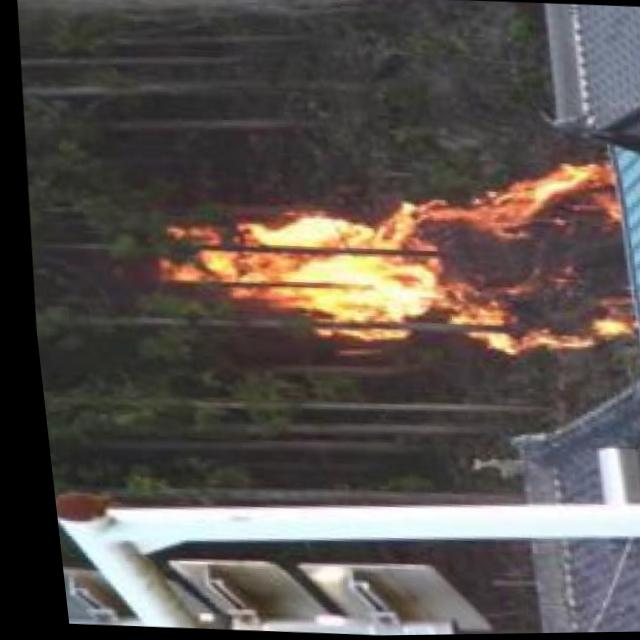Fire: (156, 148, 630, 354)
